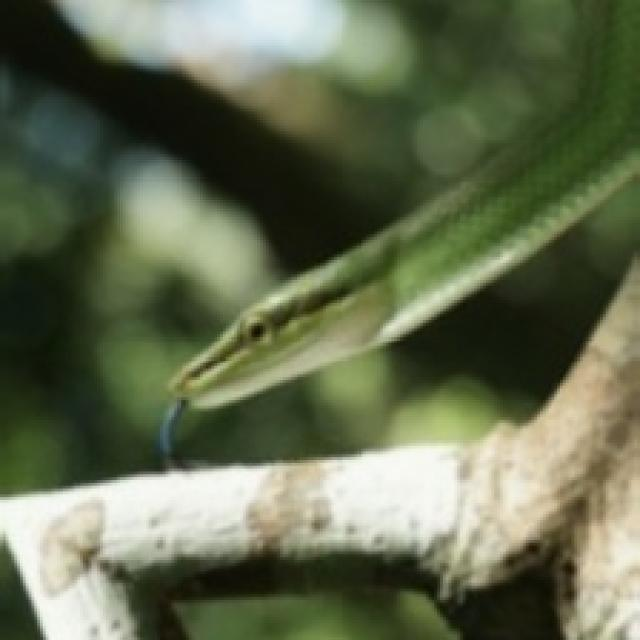red-tailed green ratsnake: (171, 0, 637, 406)
